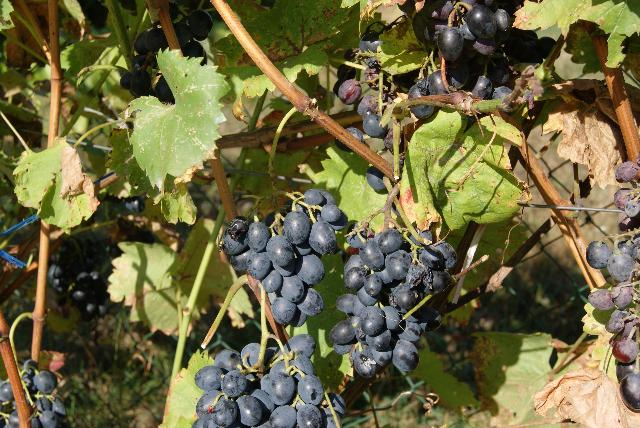grapes: (329, 229, 458, 379), (412, 0, 556, 100), (586, 150, 640, 411), (194, 335, 345, 428), (220, 204, 325, 328), (21, 360, 66, 428), (0, 380, 19, 428)
